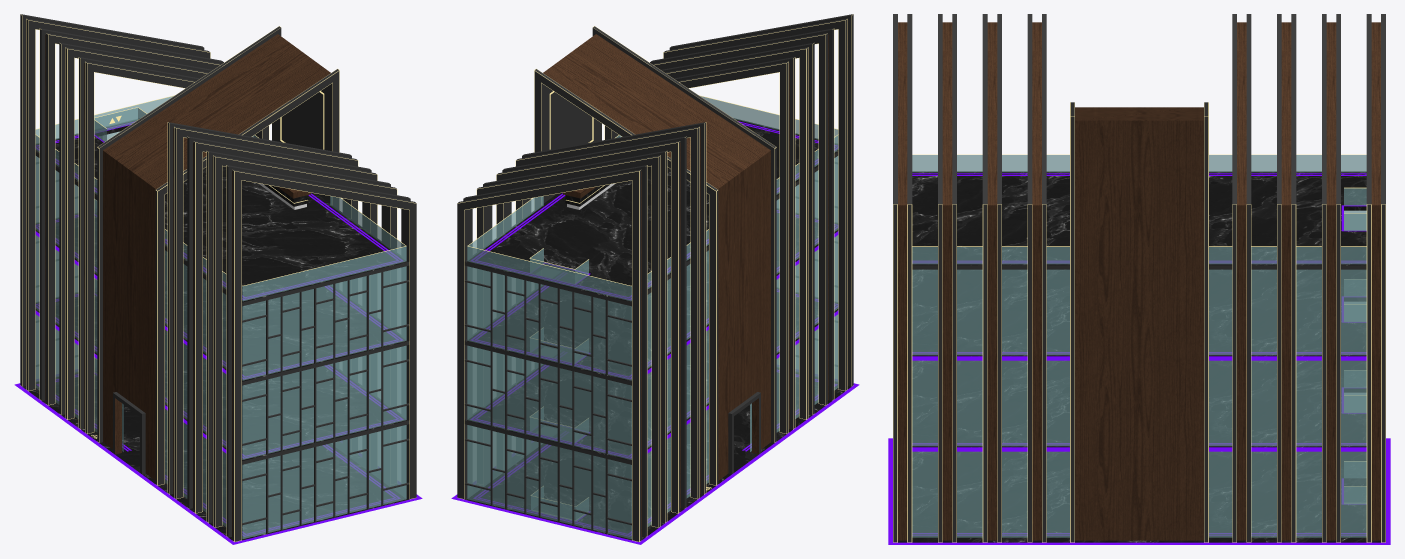
Rendered from Dhingia Builds 04 Size 2x1.glb.
3 renders of one model, left to right at view 1: azimuth 30°, elevation 25°; view 2: azimuth 150°, elevation 25°; view 3: azimuth 270°, elevation 25°, orthographic. The views are drawn at different scales.
Visible parts, largest first — view 1: Mesh_6, Bars#2, Mesh_12, Mesh_0, Bars.007, Mesh_9, Mesh_8, Bars.006, Bars.004, Bars.005, Bars.001, Bars (+5 smaller); view 2: Mesh_6, Bars#2, Mesh_12, Mesh_0, Bars, Mesh_9, Mesh_8, Bars.001, Bars.003, Bars.002, Bars.006, Bars.007 (+5 smaller); view 3: Mesh_6, Bars#2, Mesh_0, Mesh_12, Mesh_9, Mesh_8, Bars, Bars.002, Bars.003, Bars.004, Bars.005, Bars.007 (+2 smaller).
Part boxes in pixels (x1=…): Mesh_6: x1=35, y1=96, x2=406, y2=539; Bars#2: x1=97, y1=26, x2=339, y2=485; Mesh_12: x1=35, y1=120, x2=409, y2=306; Mesh_0: x1=14, y1=372, x2=422, y2=544; Bars.007: x1=226, y1=165, x2=416, y2=541; Mesh_9: x1=35, y1=213, x2=409, y2=385; Mesh_8: x1=35, y1=293, x2=409, y2=464; Bars.006: x1=206, y1=150, x2=397, y2=527; Bars.004: x1=167, y1=122, x2=358, y2=499; Bars.005: x1=187, y1=136, x2=377, y2=513; Bars.001: x1=39, y1=28, x2=223, y2=405; Bars: x1=20, y1=14, x2=210, y2=391; Mesh_6: x1=467, y1=96, x2=838, y2=539; Bars#2: x1=534, y1=26, x2=776, y2=485; Mesh_12: x1=464, y1=118, x2=838, y2=306; Mesh_0: x1=451, y1=367, x2=859, y2=544; Bars: x1=457, y1=165, x2=647, y2=541; Mesh_9: x1=464, y1=209, x2=838, y2=385; Mesh_8: x1=464, y1=288, x2=838, y2=464; Bars.001: x1=476, y1=150, x2=667, y2=527; Bars.003: x1=515, y1=122, x2=706, y2=499; Bars.002: x1=496, y1=136, x2=686, y2=513; Bars.006: x1=650, y1=28, x2=834, y2=405; Bars.007: x1=663, y1=14, x2=853, y2=391; Mesh_6: x1=912, y1=155, x2=1366, y2=537; Bars#2: x1=1070, y1=102, x2=1208, y2=542; Mesh_0: x1=888, y1=438, x2=1390, y2=544; Mesh_12: x1=912, y1=171, x2=1366, y2=269; Mesh_9: x1=912, y1=270, x2=1366, y2=360; Mesh_8: x1=912, y1=361, x2=1366, y2=451; Bars: x1=1366, y1=14, x2=1385, y2=542; Bars.002: x1=1277, y1=14, x2=1296, y2=542; Bars.003: x1=1232, y1=14, x2=1251, y2=542; Bars.004: x1=1027, y1=14, x2=1046, y2=542; Bars.005: x1=982, y1=14, x2=1001, y2=542; Bars.007: x1=893, y1=14, x2=912, y2=542.
Size of what is drawn, in the model's own units: 16 by 30 by 32.
7 materials, 2 textured.
